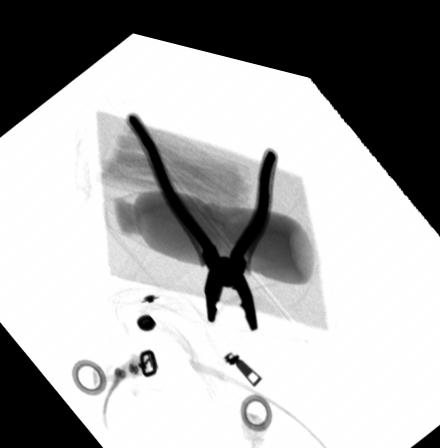Pliers: (123, 104, 277, 319)
